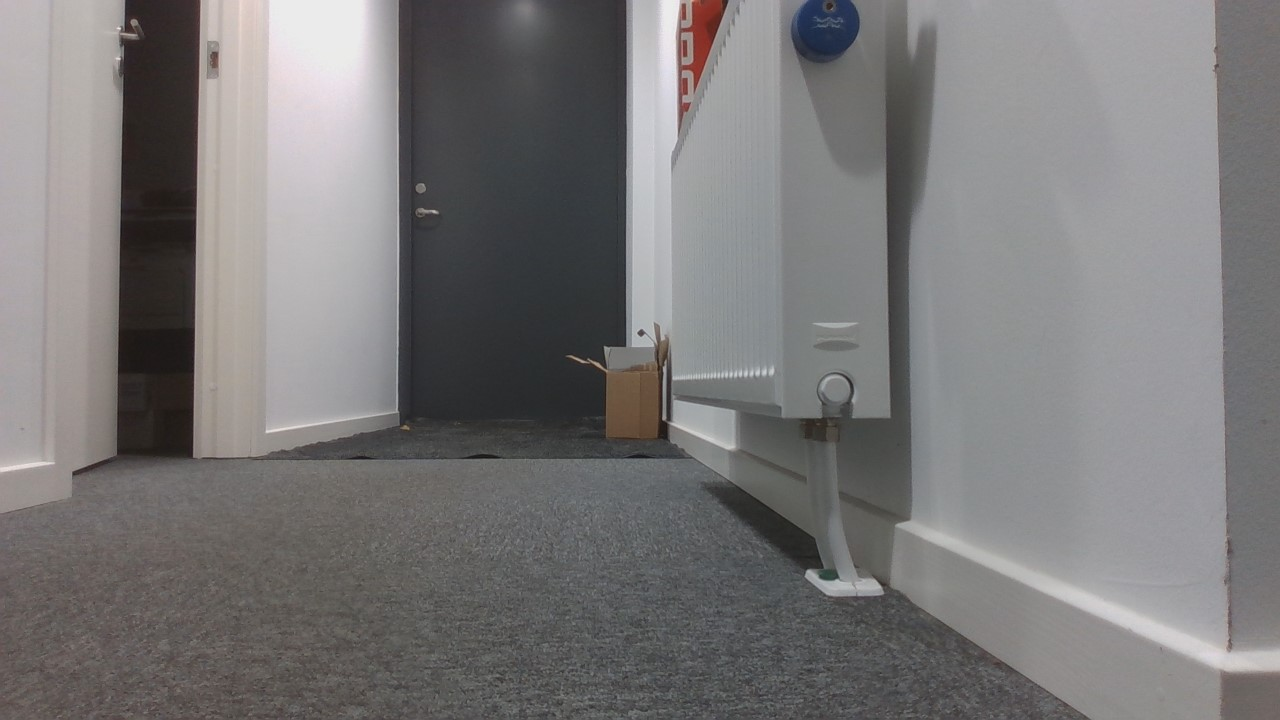alfa: (789, 1, 863, 68)
